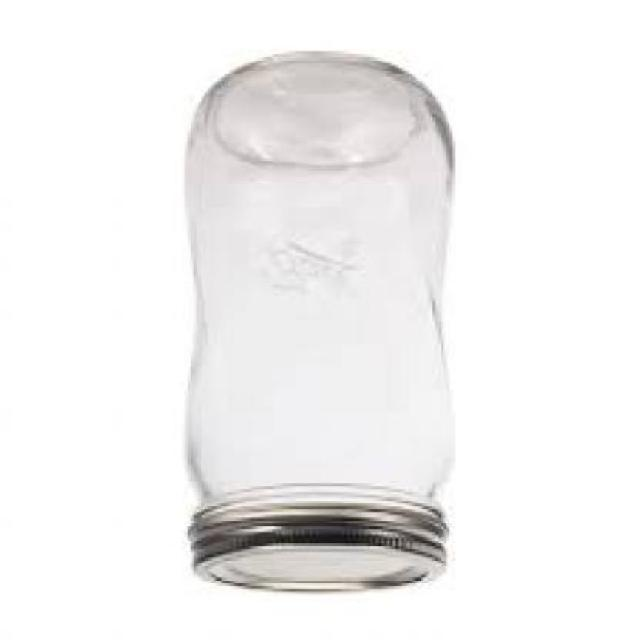GLASS: (185, 60, 452, 512)
METAL: (185, 506, 444, 597)
